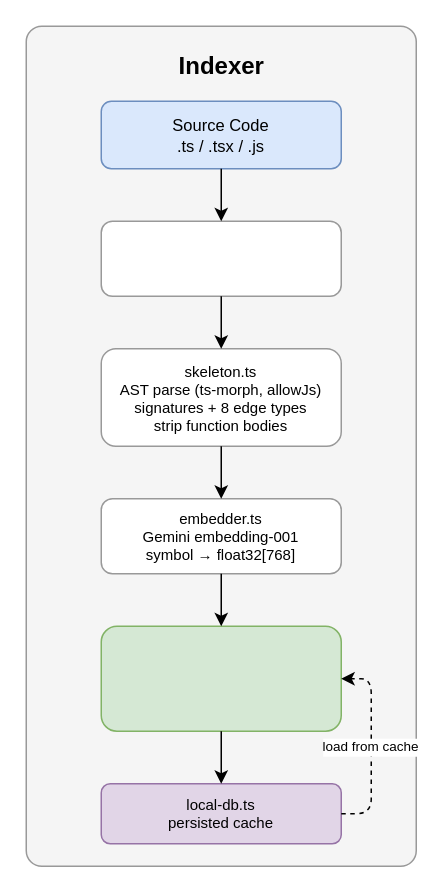
Some shapes in this 447 by 893 pixel diagram are drawn without their labels. Here are the shapes that lost their labels. From the top down, the box of each, then its label:
(100, 220, 341, 296): hasher.ts Incremental MD5 skip unchanged
(100, 625, 341, 731): GLOBAL_INDEX symbols map callGraph fileDependents embeddings
